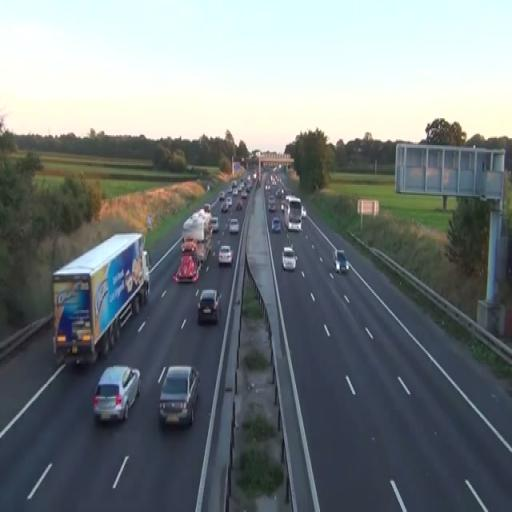Bus: (286, 195, 302, 232)
Car: (92, 364, 142, 424), (158, 365, 200, 429), (198, 288, 222, 325), (172, 253, 200, 283), (332, 250, 350, 274), (282, 246, 296, 272), (218, 245, 232, 267), (229, 218, 239, 234), (272, 217, 281, 232), (211, 216, 219, 232)
Truck: (52, 232, 150, 367), (182, 210, 212, 264)
